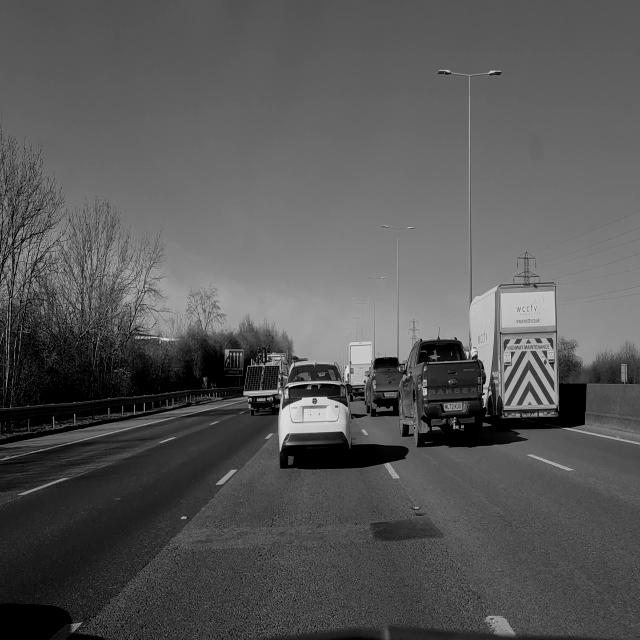car: (397, 334, 481, 453), (279, 361, 351, 468), (363, 354, 408, 416)
